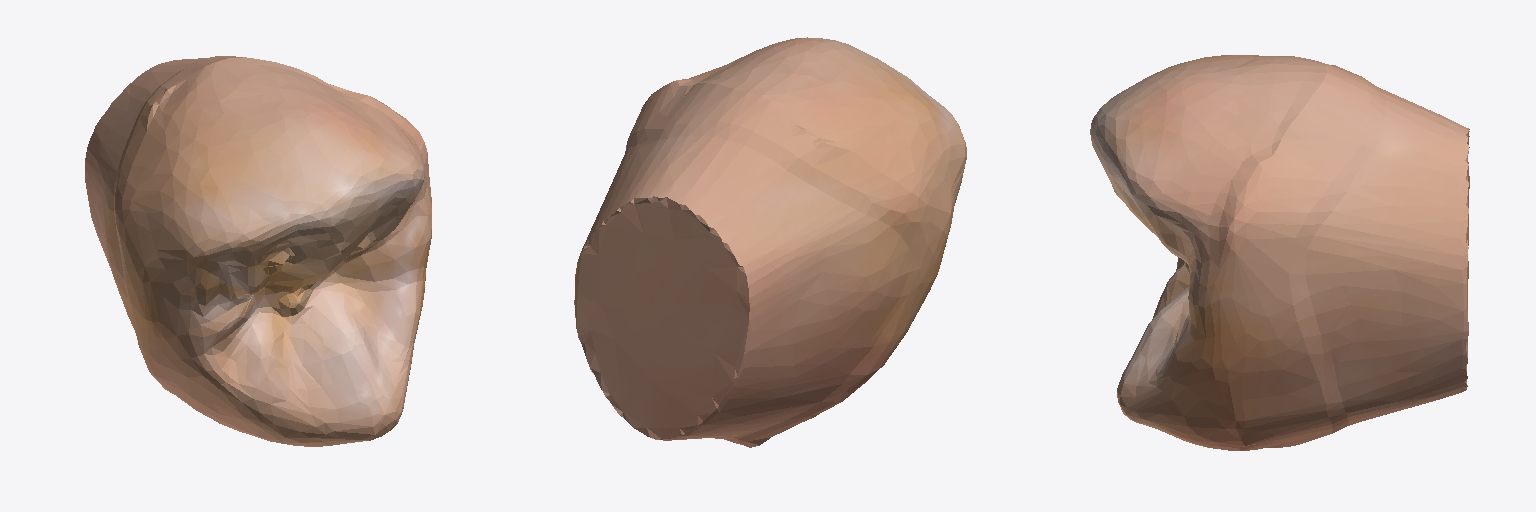
3 renders of one model, left to right at view 1: azimuth 30°, elevation 25°; view 2: azimuth 150°, elevation 25°; view 3: azimuth 270°, elevation 25°, orthographic.
Size of the model in its own units: 7.88 by 9.35 by 8.79.
1 materials, 1 textured.